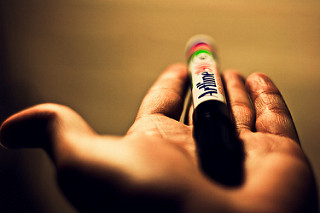palm: (153, 61, 295, 202)
